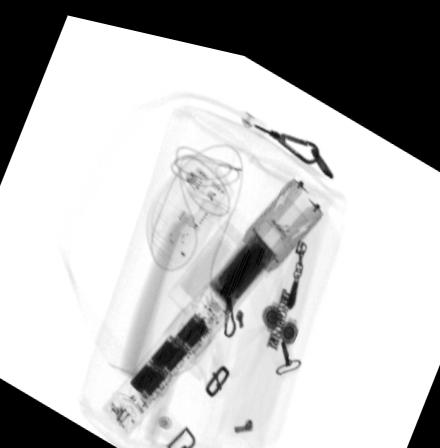Baton: (101, 158, 325, 432)
